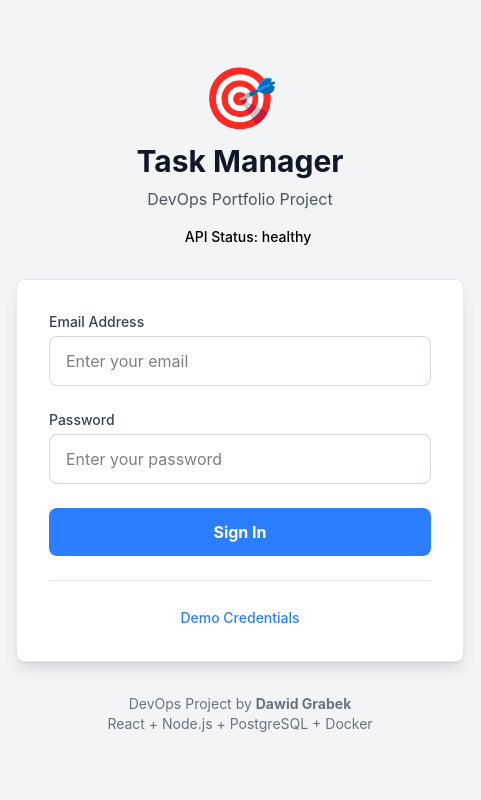
Test: LoginForm › toggles demo credentials panel visibility
Expected: the text "for demo purposes" is not shown
Click the button "Demo Credentials" at [240, 618], box [180,608,300,628]
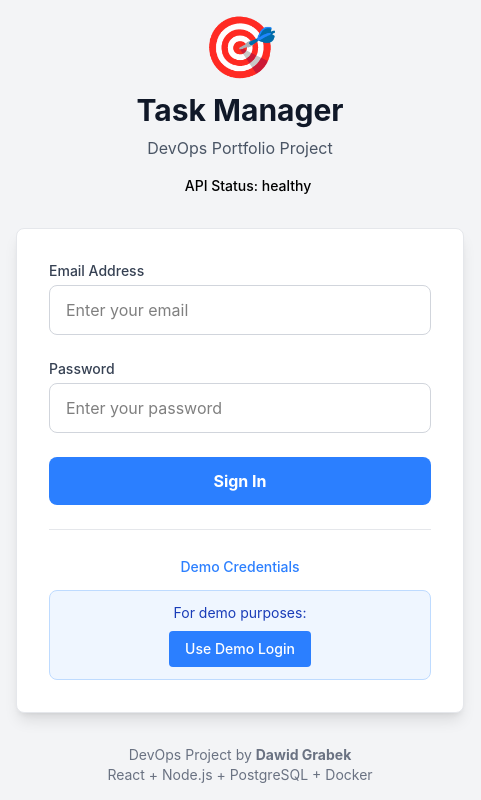
Expected: the text "For demo purposes:" is shown, [174,604,306,620]
Click the button "Demo Credentials" at [240, 566], box [180,556,300,576]
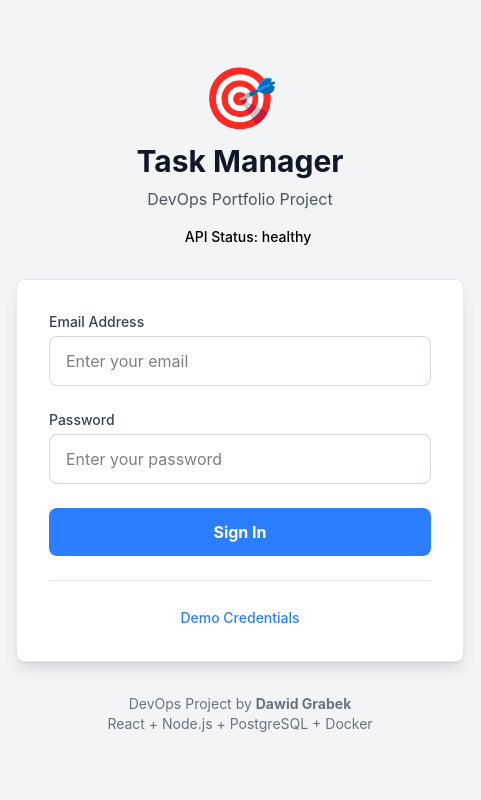
Expected: the text "For demo purposes" is gone
